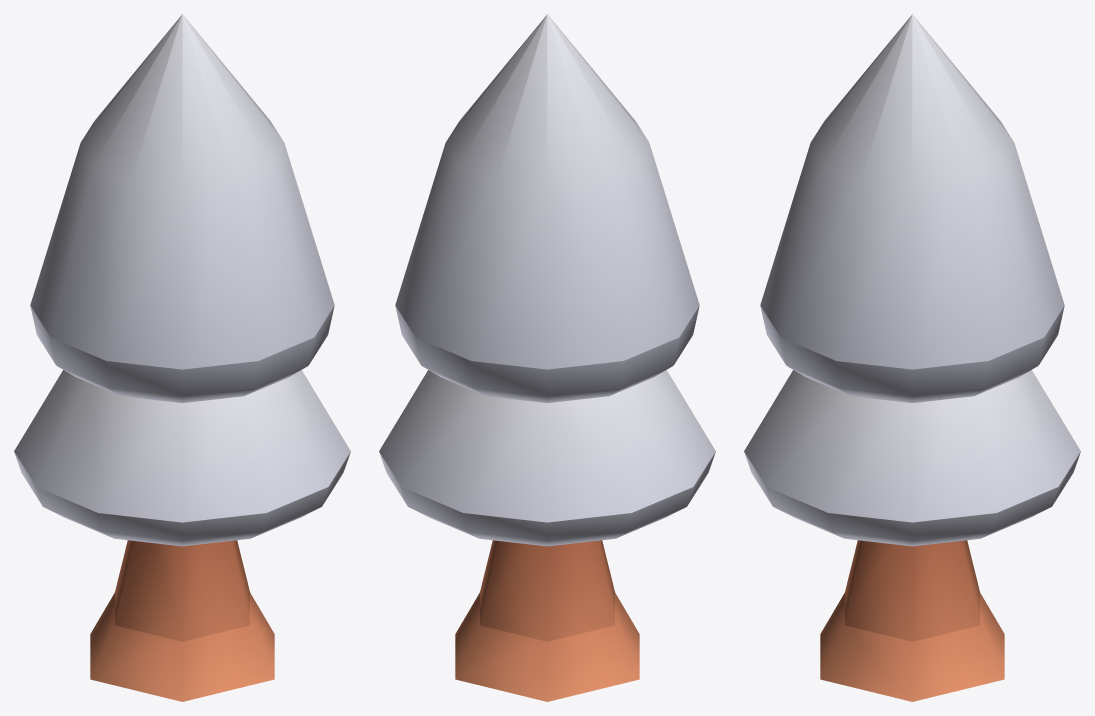
File: tree_pine_snow.glb
3 renders of one model, left to right at view 1: azimuth 30°, elevation 25°; view 2: azimuth 150°, elevation 25°; view 3: azimuth 270°, elevation 25°, orthographic.
Parts seen in each view (by area): view 1: tree-pine-snow; view 2: tree-pine-snow; view 3: tree-pine-snow.
Boxes of the visible parts, box(x1,y1,x2,y2) form: tree-pine-snow: box(14, 14, 350, 701); tree-pine-snow: box(379, 14, 715, 701); tree-pine-snow: box(744, 14, 1080, 701).
Bounding box in the file's own units: 0.9485 × 2 × 0.9485.
Materials: 1 (1 with a texture image).
